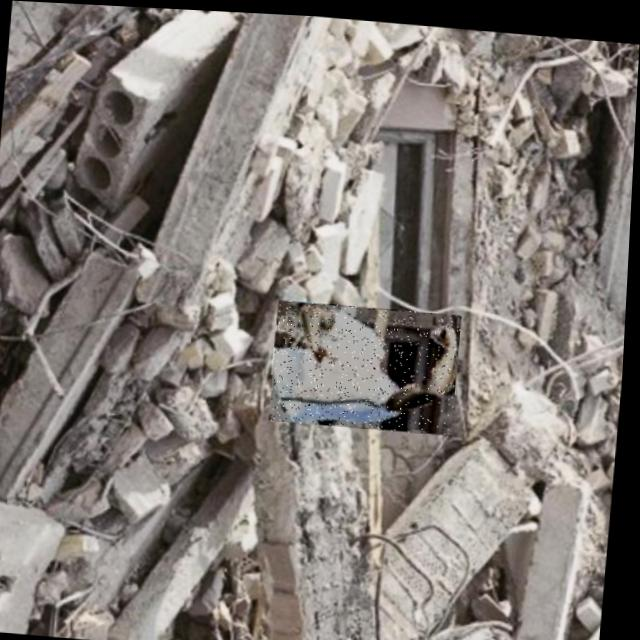Person in Rubble: (271, 296, 463, 430)
